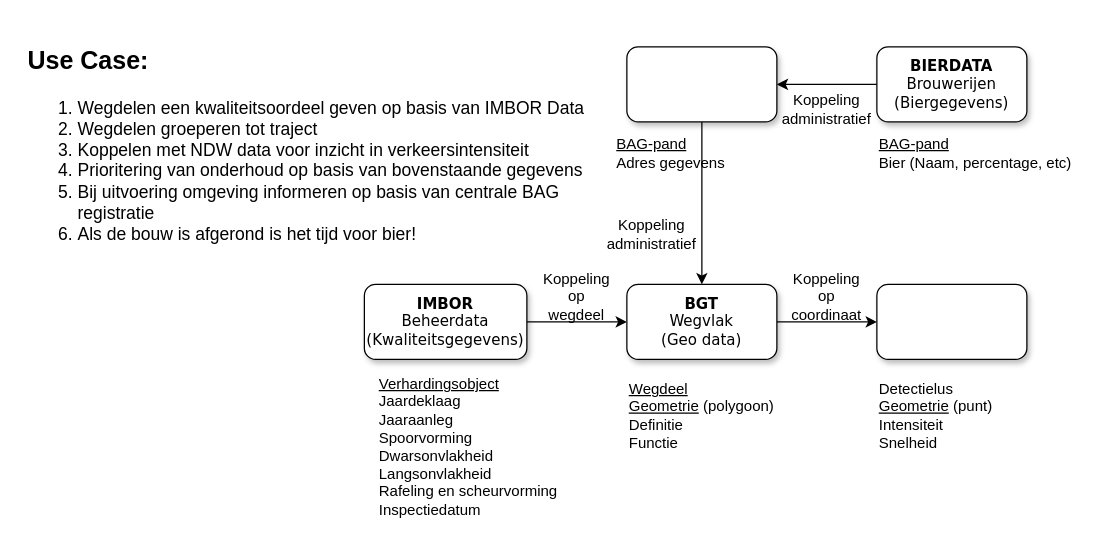
The diagram is 1098 pixels wide and 543 high, and some of its shapes have lost their labels. The centre of each missing label's shape, as x and y in pixels:
BAG Gebouwen (Adresgegevens): the point at 702,86
NDW Intensiteit data (Sensor data): the point at 952,323
